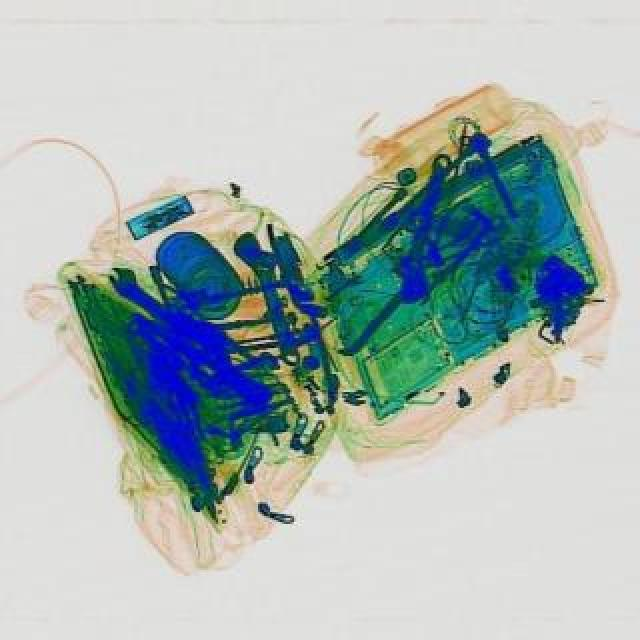scissors: (386, 152, 466, 308), (232, 228, 318, 372), (106, 264, 202, 344), (404, 202, 512, 254)
wrench: (414, 196, 492, 276)
